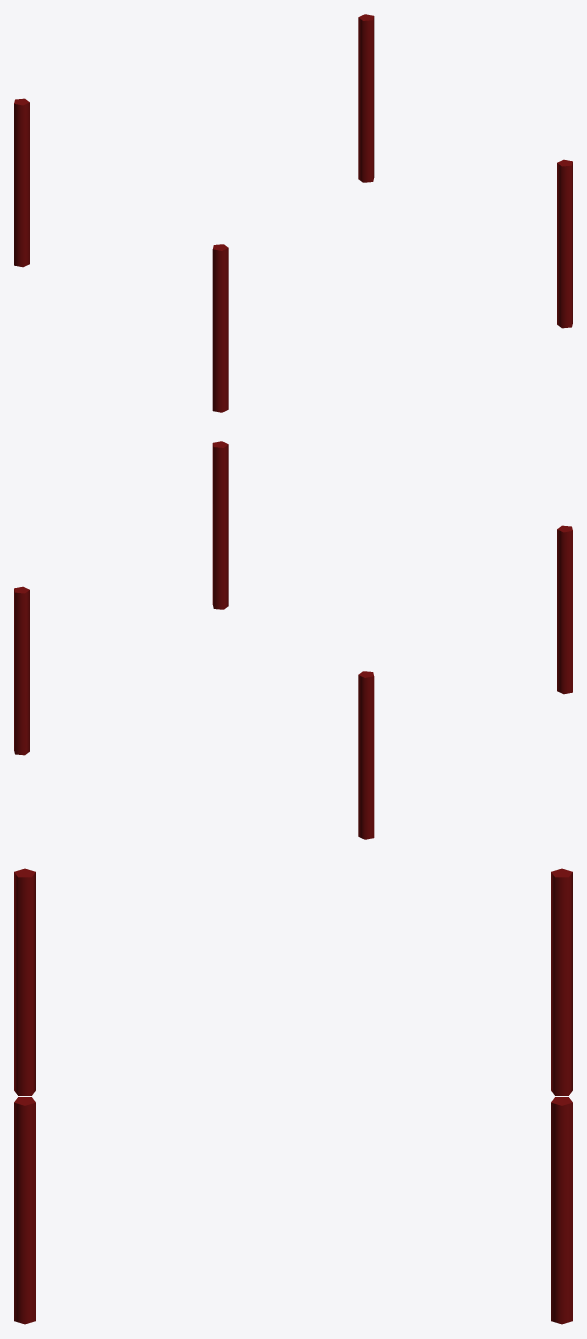
The model's file is SM_Pole_Center.fbx.
3 views of the same model, one above another, from view 1: azimuth 30°, elevation 25°; view 2: azimuth 150°, elevation 25°; view 3: azimuth 270°, elevation 25° (orthographic). The views are drawn at different scales.
Parts seen in each view (by area): view 1: SM_Pole_Center; view 2: SM_Pole_Center; view 3: SM_Pole_Center.
Part boxes in pixels (bbox=[...]): SM_Pole_Center: bbox=[14, 14, 572, 412]; SM_Pole_Center: bbox=[14, 441, 572, 839]; SM_Pole_Center: bbox=[14, 868, 572, 1324].
Size of the model in its own units: 46.82 by 20.1 by 46.59.
